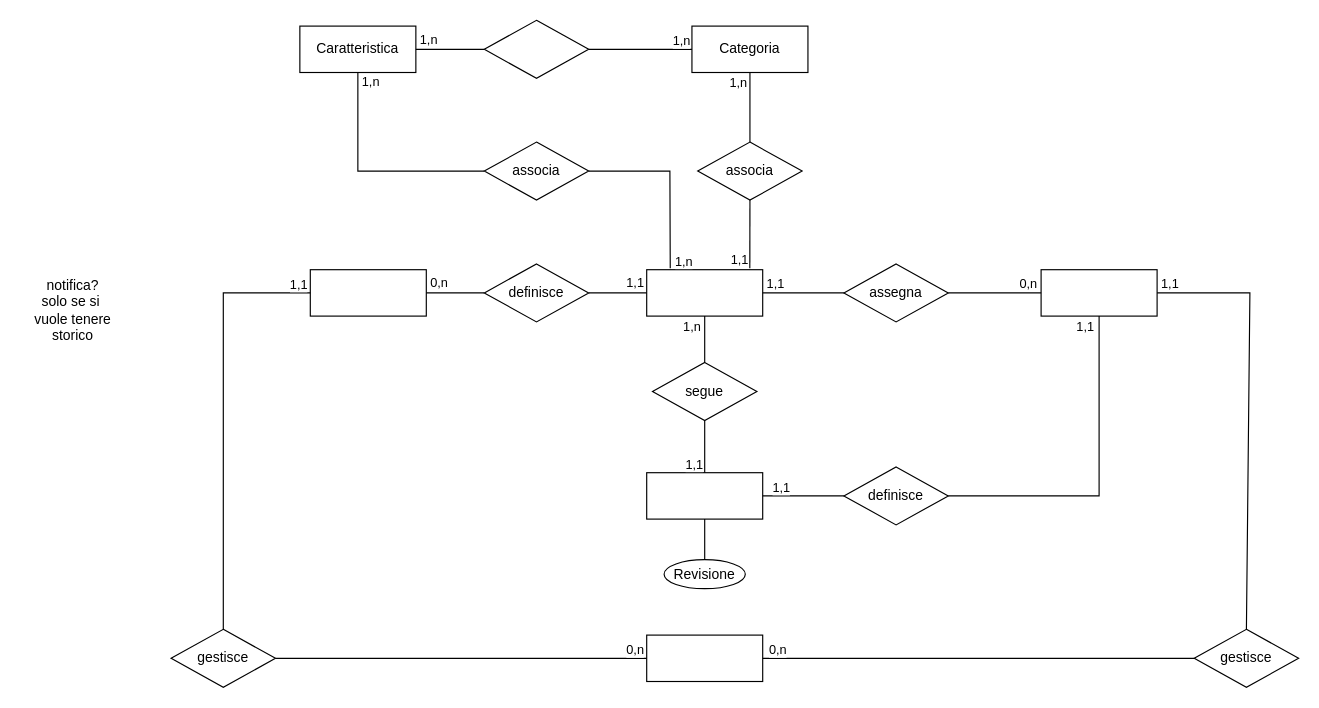
Image size: 1319x708. Some labels were removed from this diagram. Each missing label, with the centre of its shape:
Amministratore: the point at 704,658
contiene: the point at 536,48
Ordinante: the point at 367,292
Proposta: the point at 704,495
Richiesta: the point at 704,292
Tecnico: the point at 1098,292
